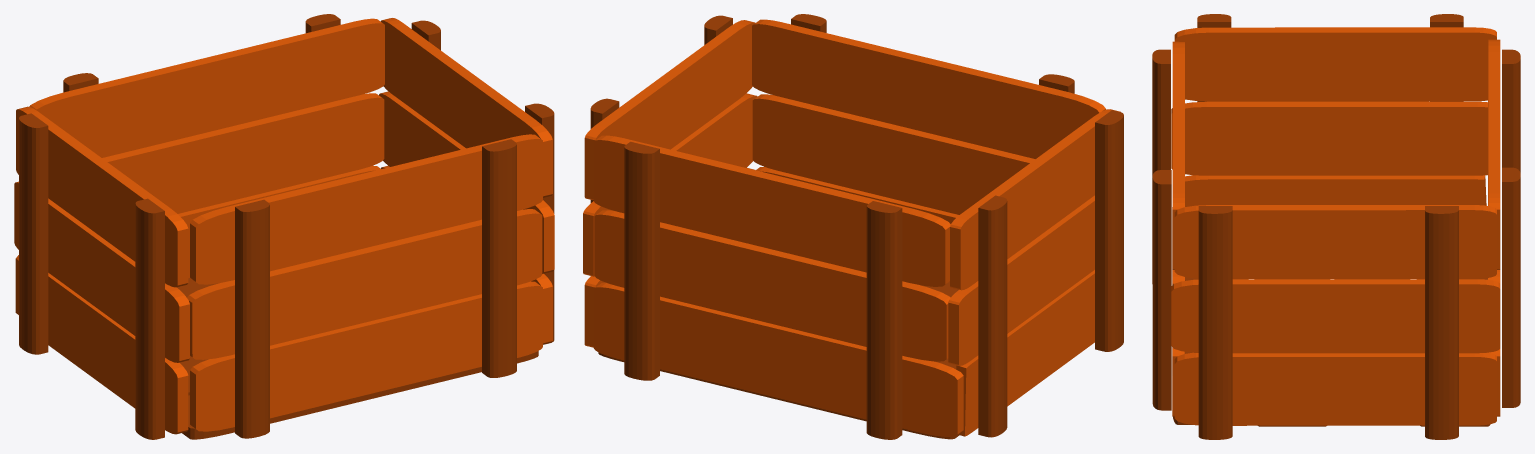
The picture shows the model from 3 angles, left to right: view 1: azimuth 30°, elevation 25°; view 2: azimuth 150°, elevation 25°; view 3: azimuth 270°, elevation 25°; orthographic projection.
Visible parts, largest first — view 1: Cube.168, Cube.171, Cube.170, Cube.169, Cube.167, Cube.174, Cube.177, Cube.176, Cube.180, Cube.181, Cube.175, Cube.185 (+7 smaller); view 2: Cube.171, Cube.166, Cube.168, Cube.167, Cube.170, Cube.174, Cube.177, Cube.176, Cube.178, Cube.179, Cube.175, Cube.185 (+7 smaller); view 3: Cube.177, Cube.176, Cube.173, Cube.174, Cube.172, Cube.175, Cube.183, Cube.182, Cube.181, Cube.179, Cube.168, Cube.180 (+4 smaller).
Part boxes in pixels (x1,y1,x2,y2): Cube.168: (29, 18, 384, 157); Cube.171: (190, 134, 542, 284); Cube.170: (187, 209, 542, 359); Cube.169: (190, 281, 542, 431); Cube.167: (102, 93, 384, 213); Cube.174: (380, 18, 552, 197); Cube.177: (16, 106, 188, 287); Cube.176: (14, 181, 189, 362); Cube.180: (235, 199, 269, 438); Cube.181: (482, 139, 516, 377); Cube.175: (48, 273, 188, 434); Cube.185: (19, 113, 48, 354); Cube.171: (752, 19, 1105, 158); Cube.166: (593, 282, 963, 436); Cube.168: (593, 135, 950, 286); Cube.167: (594, 210, 950, 361); Cube.170: (752, 94, 1035, 214); Cube.174: (584, 20, 755, 200); Cube.177: (950, 109, 1120, 290); Cube.176: (948, 195, 1094, 365); Cube.178: (866, 201, 902, 439); Cube.179: (624, 141, 659, 380); Cube.175: (956, 270, 1094, 436); Cube.185: (978, 195, 1007, 437); Cube.177: (1174, 27, 1496, 101); Cube.176: (1171, 101, 1487, 175); Cube.173: (1171, 279, 1500, 353); Cube.174: (1174, 205, 1496, 278); Cube.172: (1174, 352, 1496, 425); Cube.175: (1185, 175, 1486, 206); Cube.183: (1198, 206, 1232, 439); Cube.182: (1425, 206, 1458, 439); Cube.181: (1152, 170, 1171, 410); Cube.179: (1502, 167, 1520, 407); Cube.168: (1488, 39, 1500, 269); Cube.180: (1152, 49, 1170, 283).
Size of the model in its own units: 431 by 228 by 336.
